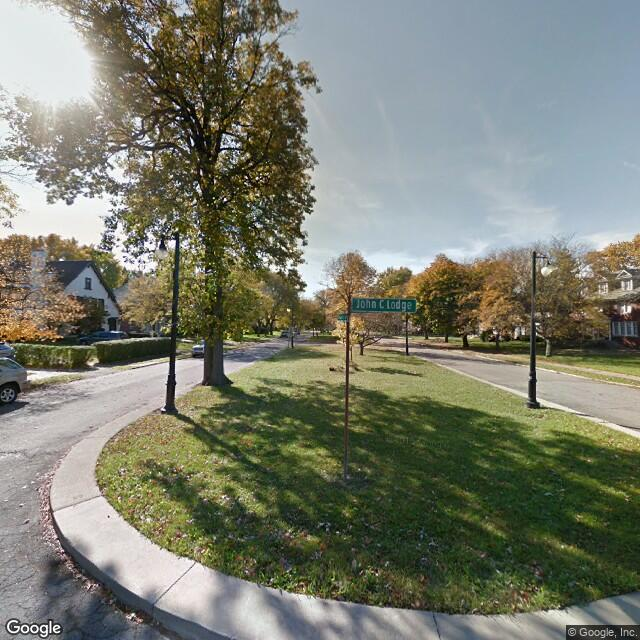litter: (311, 518, 335, 534), (418, 529, 435, 548), (133, 513, 156, 527), (124, 608, 144, 623), (228, 533, 255, 544), (219, 494, 236, 508), (276, 560, 291, 575), (503, 546, 513, 564), (117, 467, 130, 477), (315, 552, 330, 560)
